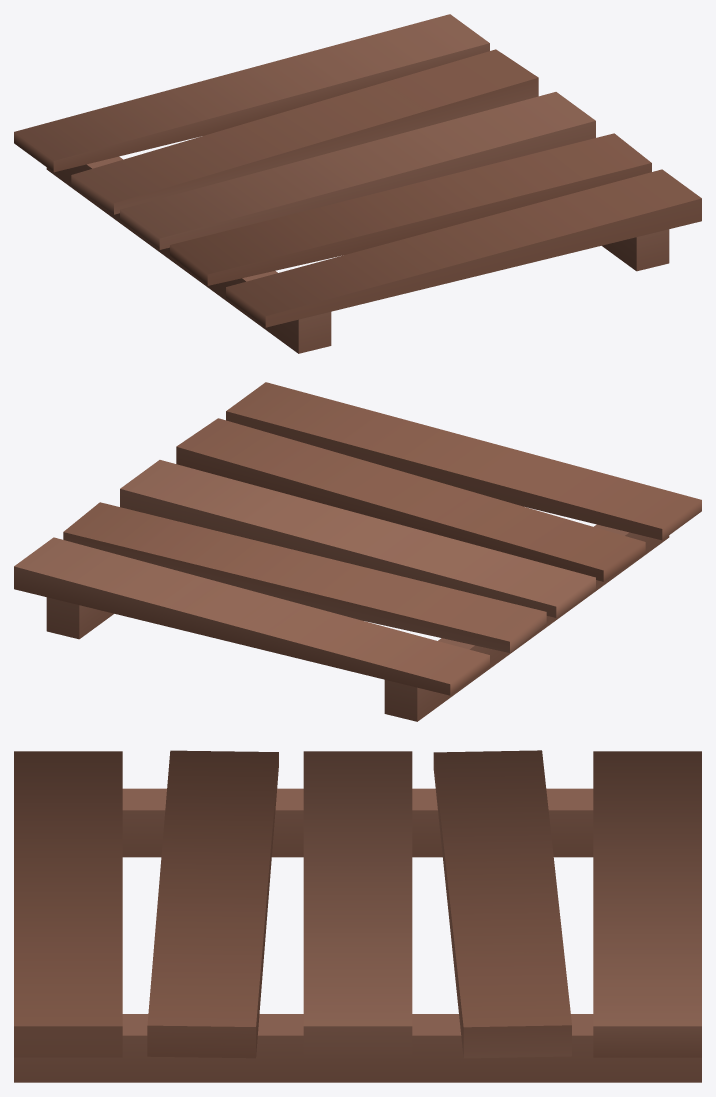
File: template-floor-layer.obj
The picture shows the model from 3 angles, top to bottom: view 1: azimuth 30°, elevation 25°; view 2: azimuth 150°, elevation 25°; view 3: azimuth 270°, elevation 25°; orthographic projection. The views are drawn at different scales.
Parts seen in each view (by area): view 1: template-floor-layer; view 2: template-floor-layer; view 3: template-floor-layer.
Boxes of the visible parts, x1=… form: template-floor-layer: x1=14, y1=14, x2=701, y2=353; template-floor-layer: x1=14, y1=382, x2=701, y2=721; template-floor-layer: x1=14, y1=750, x2=701, y2=1082.
Size of the model in its own units: 4.02 by 0.5 by 4.
Materials: 1 (1 with a texture image).
